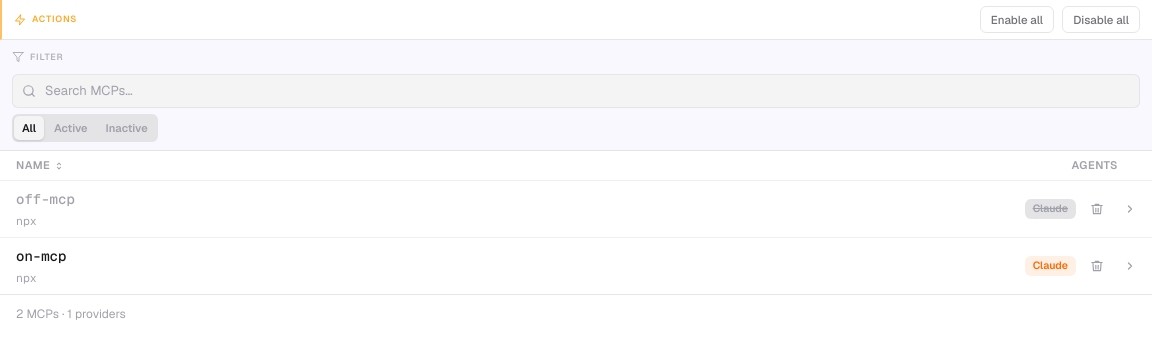
Test: AllMcpsView — status filter (All / Active / Inactive) › "Active" narrows to MCPs with at least one enabled variant
Click the button "Active". click: (71, 128)
box: 46,116 -> 96,140
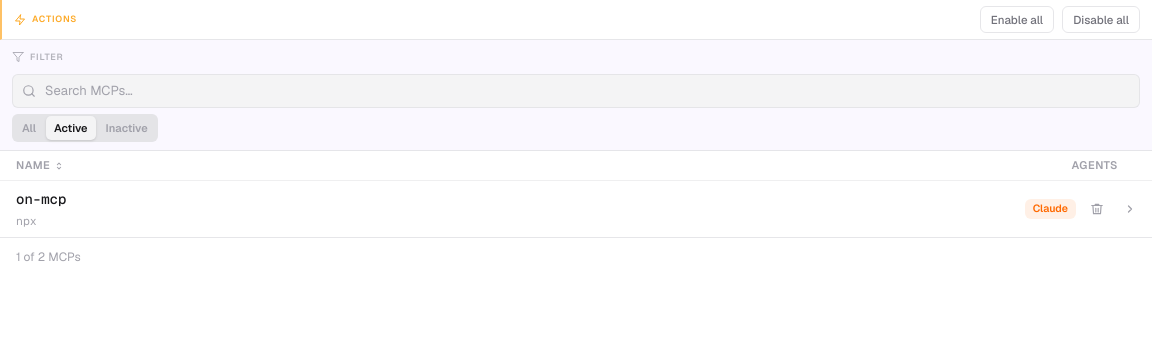
Expected: the text "on-mcp" is shown, 16,189 -> 66,210
Now the button "off-mcp" is gone
